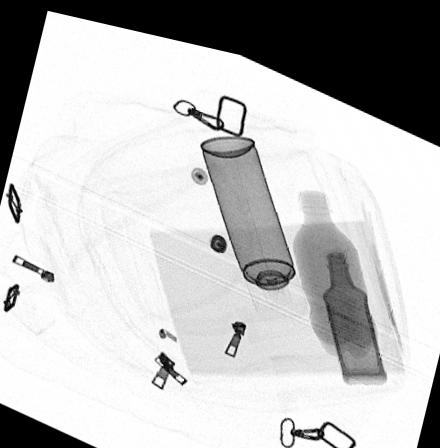Sprayer: (199, 123, 307, 305)
